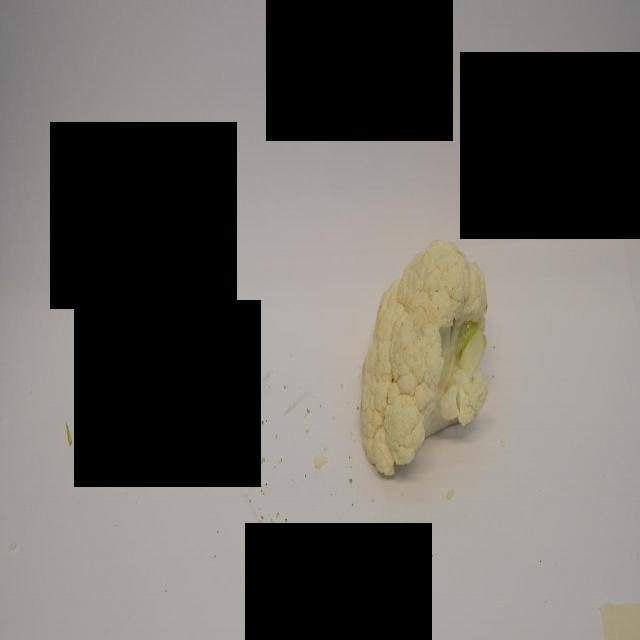cauliflower: (356, 224, 496, 485)
